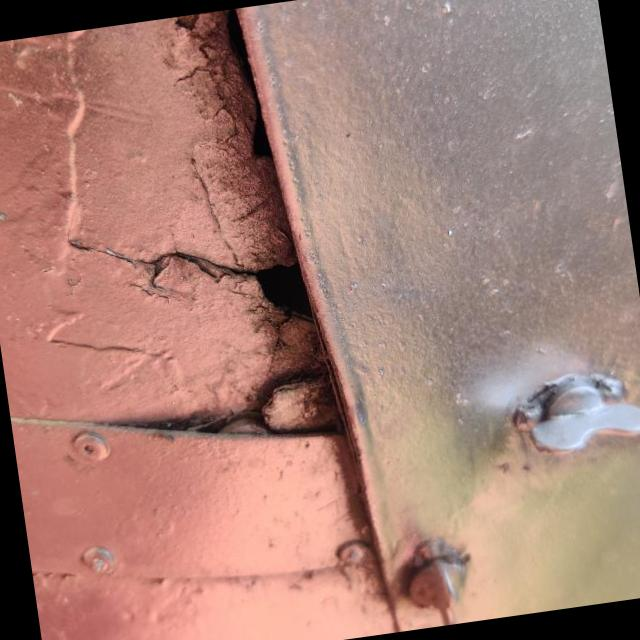Crack: (253, 264, 313, 320)
